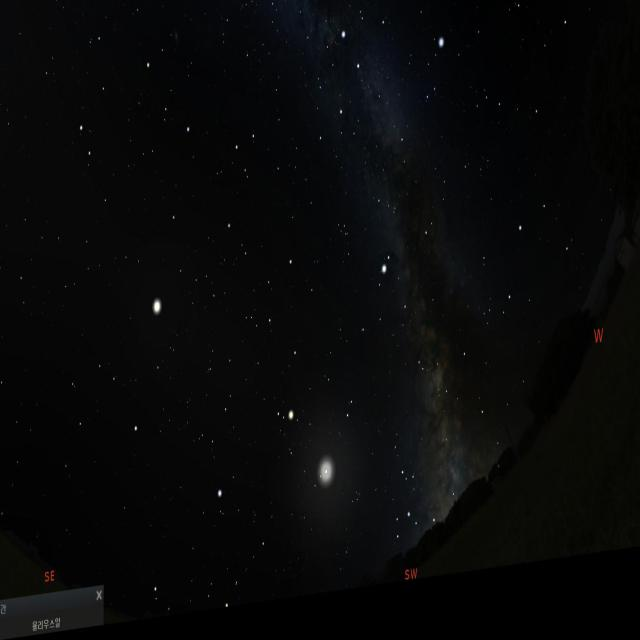aquila: (356, 251, 435, 397)
cygnus: (332, 14, 409, 171)
lyra: (420, 39, 450, 137)
moon: (310, 439, 340, 517)
